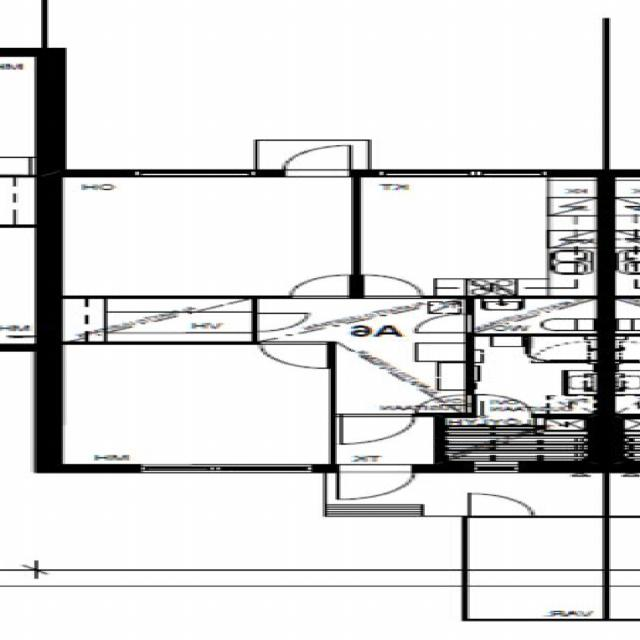door: (338, 464, 414, 500), (341, 413, 414, 443), (285, 146, 350, 177), (260, 341, 328, 369), (471, 493, 533, 517), (364, 274, 423, 298), (477, 393, 533, 418), (292, 274, 350, 298), (252, 313, 308, 332), (417, 315, 474, 332), (418, 395, 474, 412)
